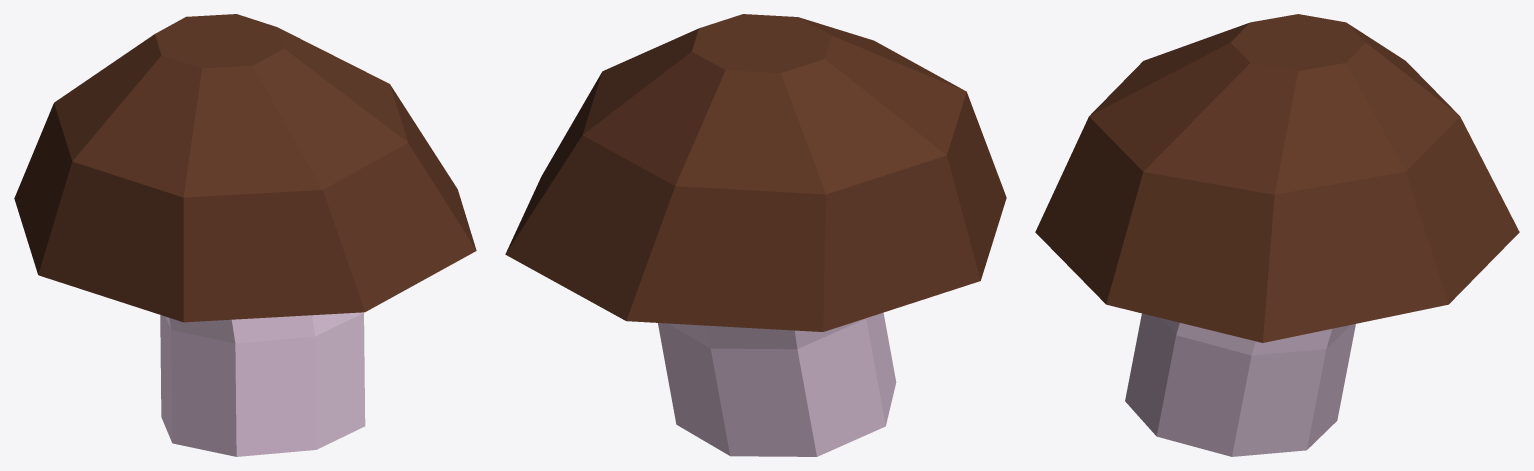
Rendered from lowpolyshroom.fbx.
The picture shows the model from 3 angles, left to right: view 1: azimuth 30°, elevation 25°; view 2: azimuth 150°, elevation 25°; view 3: azimuth 270°, elevation 25°; orthographic projection. The views are drawn at different scales.
Visible parts, largest first — view 1: Cylinder; view 2: Cylinder; view 3: Cylinder.
Part boxes in pixels (x1,y1,x2,y2): Cylinder: (14, 14, 476, 456); Cylinder: (505, 14, 1006, 456); Cylinder: (1035, 14, 1519, 456).
Bounding box in the file's own units: 512 × 437 × 514.
